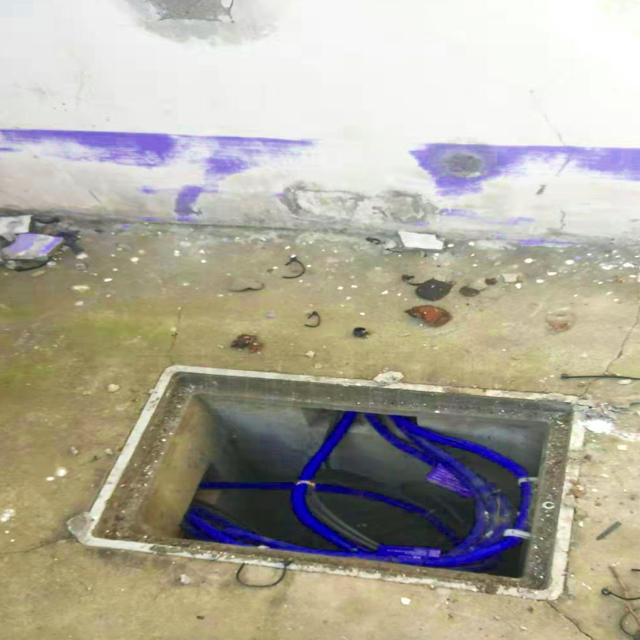lose: (75, 363, 587, 601)
